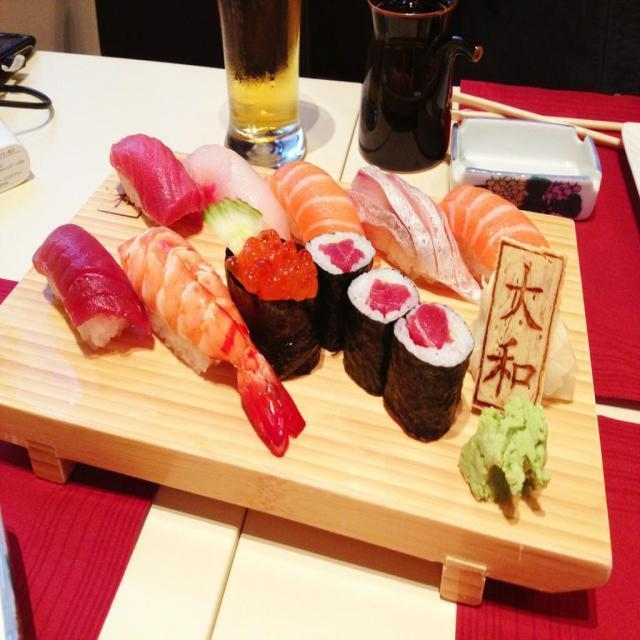Shrimp: (116, 227, 304, 451)
